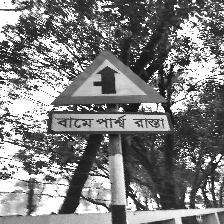Side-road-left: (47, 50, 173, 136)
